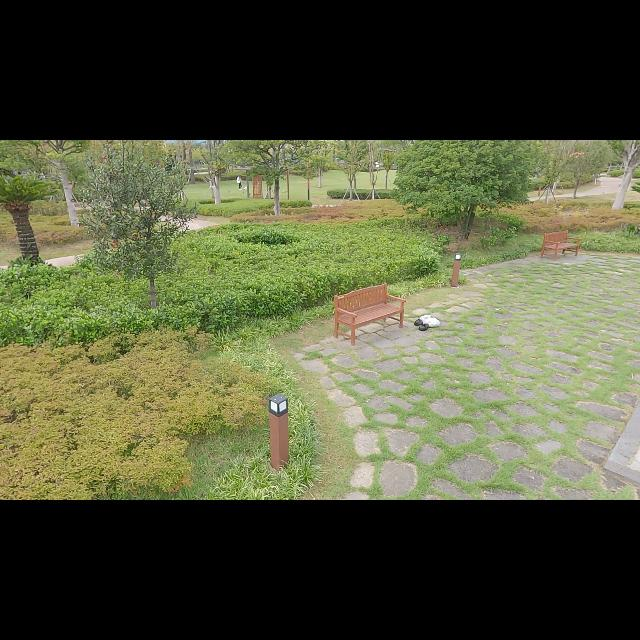trash: (424, 319, 442, 329), (410, 316, 424, 328), (420, 312, 434, 324)
